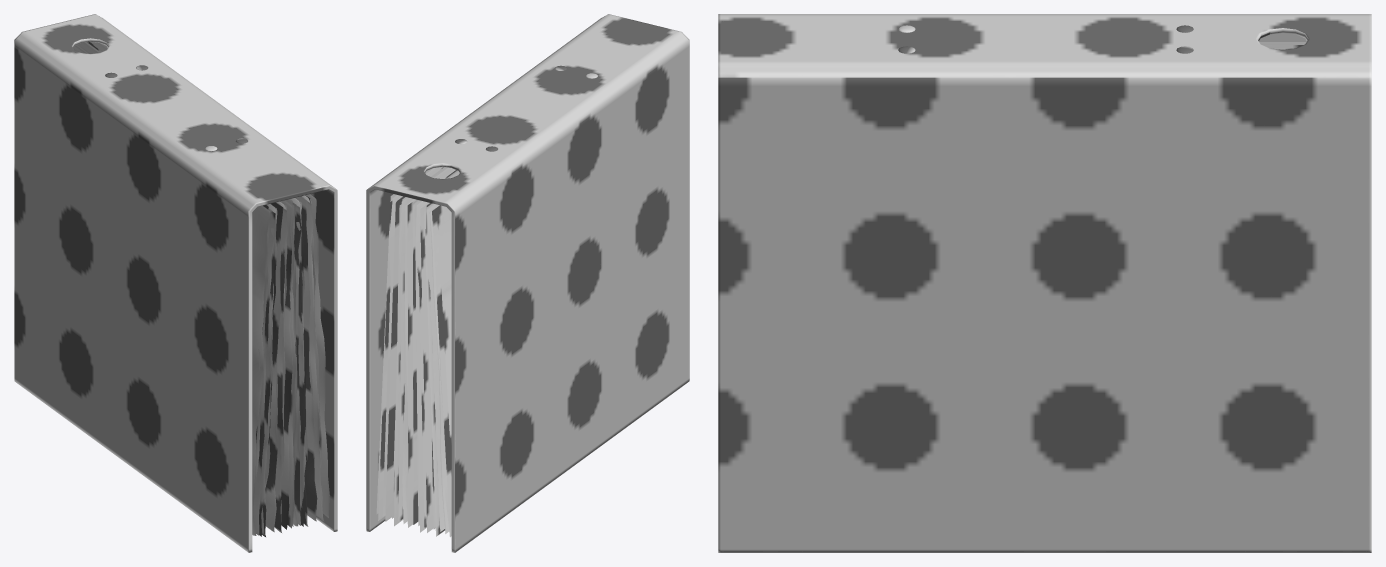
The model's file is white_speckle_book.obj.
3 renders of one model, left to right at view 1: azimuth 30°, elevation 25°; view 2: azimuth 150°, elevation 25°; view 3: azimuth 270°, elevation 25°, orthographic. The views are drawn at different scales.
Visible parts, largest first — view 1: white_speckle_book_Chocofur_Office_06.000, white_speckle_book_Chocofur_Office_06.002; view 2: white_speckle_book_Chocofur_Office_06.000, white_speckle_book_Chocofur_Office_06.002; view 3: white_speckle_book_Chocofur_Office_06.000.
Part boxes in pixels (<box>): white_speckle_book_Chocofur_Office_06.000: <box>14,14,337,552</box>; white_speckle_book_Chocofur_Office_06.002: <box>73,42,329,536</box>; white_speckle_book_Chocofur_Office_06.000: <box>366,14,689,552</box>; white_speckle_book_Chocofur_Office_06.002: <box>376,167,459,537</box>; white_speckle_book_Chocofur_Office_06.000: <box>718,14,1371,552</box>.
Size of the model in its own units: 0.0755 by 0.2833 by 0.3455.
Materials: 3 (3 with a texture image).
